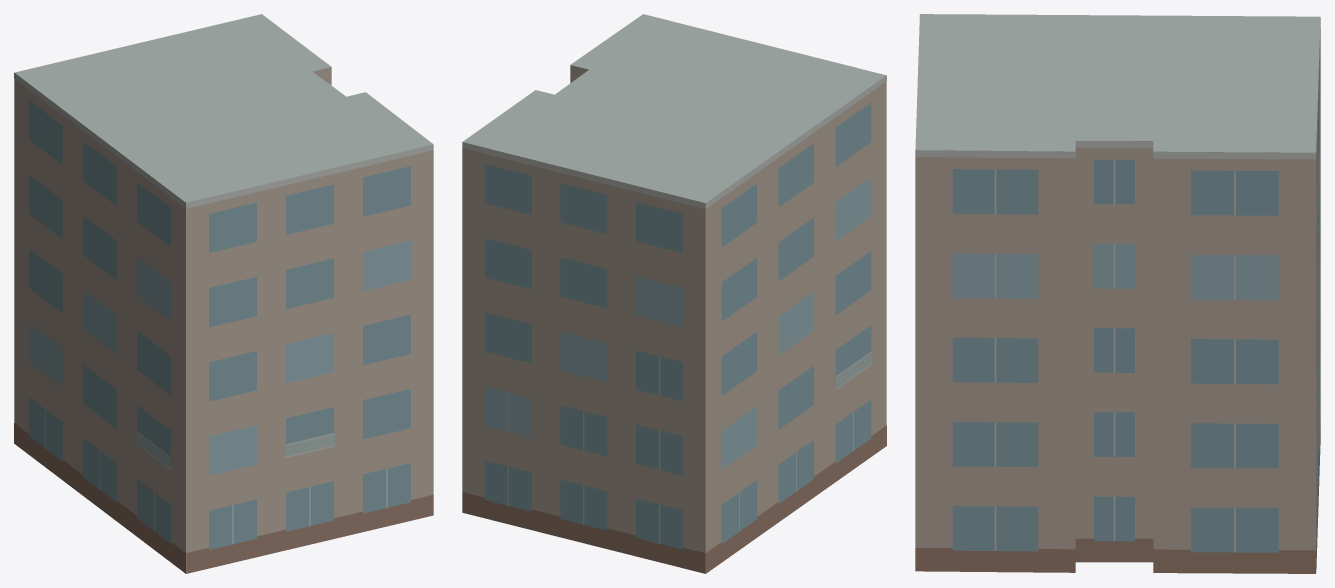
The model's file is survey-upis-32771295.glb.
The picture shows the model from 3 angles, left to right: view 1: azimuth 30°, elevation 25°; view 2: azimuth 150°, elevation 25°; view 3: azimuth 270°, elevation 25°; orthographic projection. The views are drawn at different scales.
Parts seen in each view (by area): view 1: survey-upis-32771295.tmp; view 2: survey-upis-32771295.tmp; view 3: survey-upis-32771295.tmp.
Boxes of the visible parts, box(x1,y1,x2,y2) form: survey-upis-32771295.tmp: box(14, 14, 433, 573); survey-upis-32771295.tmp: box(462, 14, 886, 573); survey-upis-32771295.tmp: box(915, 14, 1320, 573).
Size of the model in its own units: 10.69 by 15.1 by 13.17.
